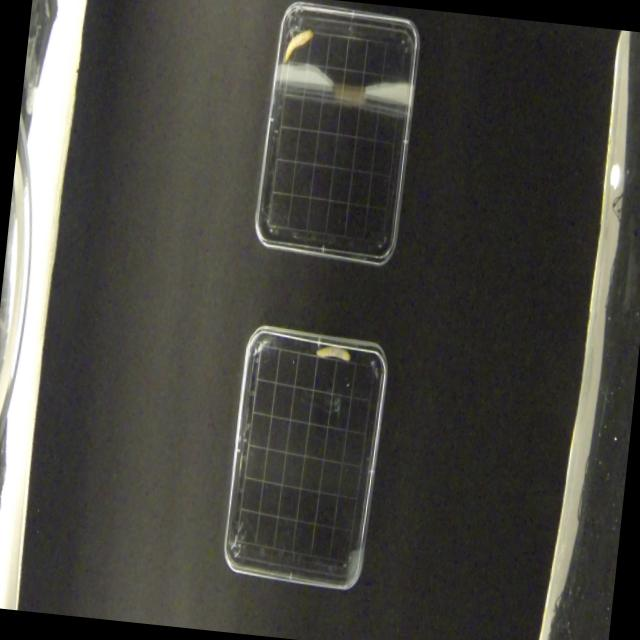larva: (282, 26, 314, 68), (317, 344, 351, 360)
